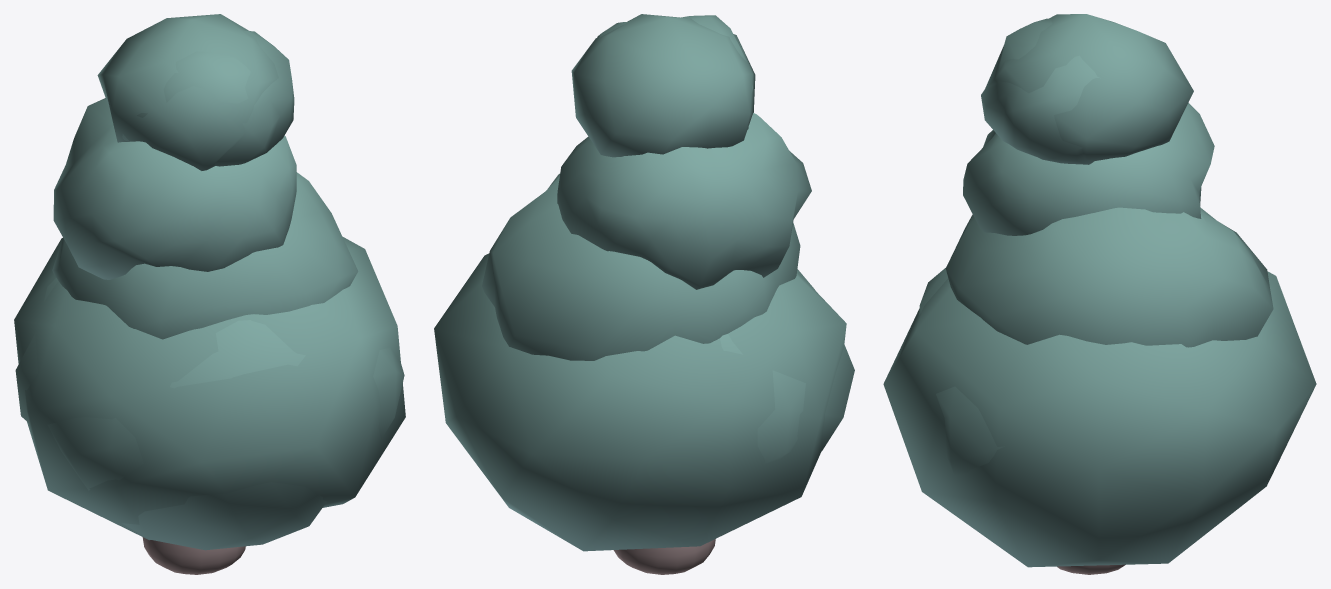
The model's file is yew.glb.
3 views of the same model, side by side, from view 1: azimuth 30°, elevation 25°; view 2: azimuth 150°, elevation 25°; view 3: azimuth 270°, elevation 25° (orthographic).
Parts seen in each view (by area): view 1: far, near; view 2: far, near; view 3: far, near.
Boxes of the visible parts, bbox=[...] form: far: bbox=[14, 14, 405, 540]; near: bbox=[15, 30, 404, 574]; far: bbox=[434, 14, 846, 551]; near: bbox=[482, 15, 854, 574]; far: bbox=[883, 14, 1316, 567]; near: bbox=[919, 18, 1273, 574].
Size of the model in its own units: 5.69 by 8.33 by 5.95.
